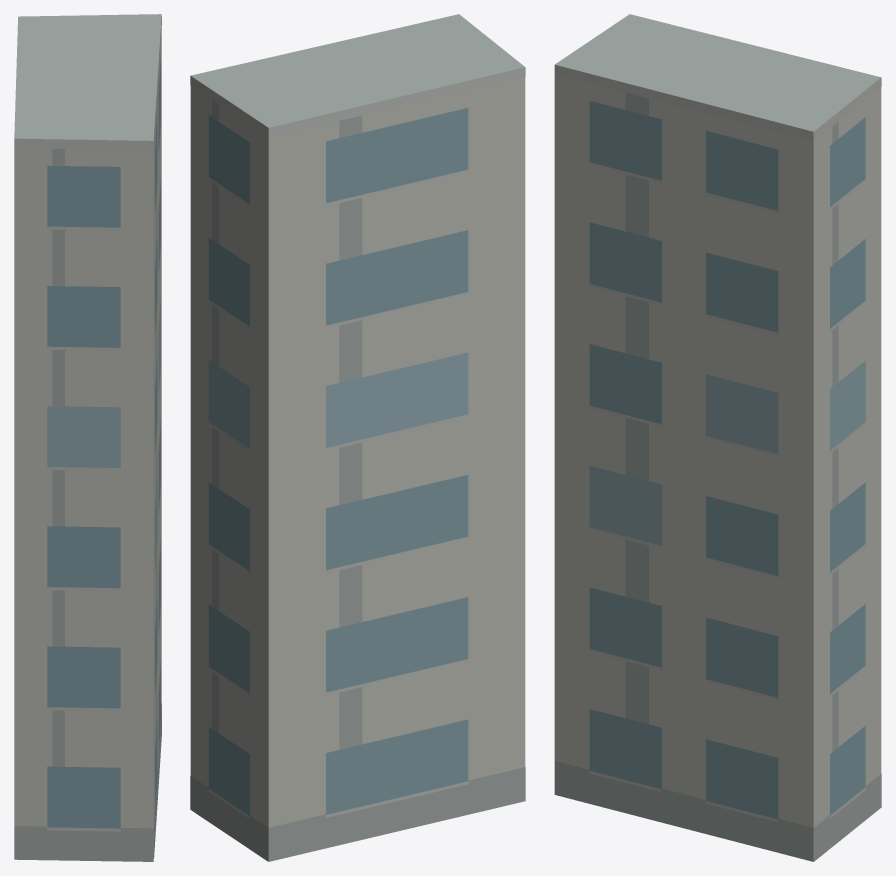
File: survey-upis-32534543.glb
The picture shows the model from 3 angles, left to right: view 1: azimuth 30°, elevation 25°; view 2: azimuth 150°, elevation 25°; view 3: azimuth 270°, elevation 25°; orthographic projection.
Parts seen in each view (by area): view 1: survey-upis-32534543.tmp; view 2: survey-upis-32534543.tmp; view 3: survey-upis-32534543.tmp.
Boxes of the visible parts, x1=… form: survey-upis-32534543.tmp: x1=14, y1=14, x2=161, y2=861; survey-upis-32534543.tmp: x1=190, y1=14, x2=525, y2=861; survey-upis-32534543.tmp: x1=554, y1=14, x2=881, y2=861.
Bounding box in the file's own units: 6.34 × 18.3 × 7.43.
